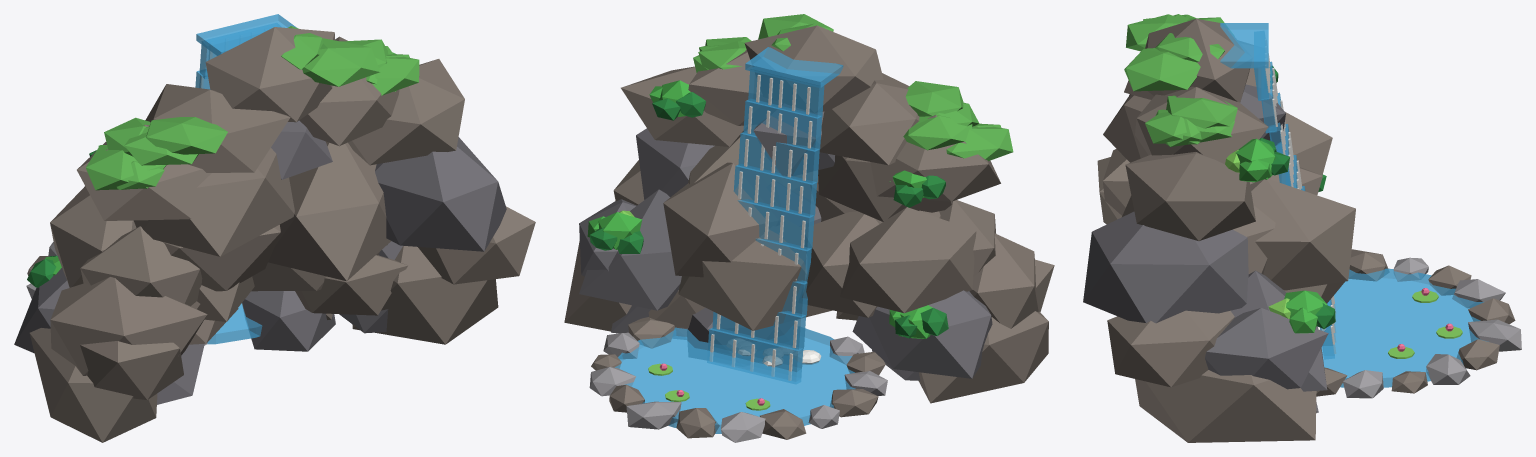
Rendered from WaterfallCliff.fbx.
3 renders of one model, left to right at view 1: azimuth 30°, elevation 25°; view 2: azimuth 150°, elevation 25°; view 3: azimuth 270°, elevation 25°, orthographic. The views are drawn at different scales.
Visible parts, largest first — view 1: WaterfallCliff_Rock, WaterfallCliff_StoneDark, WaterfallCliff_Grass, WaterfallCliff_Water, WaterfallCliff_LeafDark; view 2: WaterfallCliff_Rock, WaterfallCliff_Water, WaterfallCliff_StoneDark, WaterfallCliff_Grass, WaterfallCliff_Stone, WaterfallCliff_White, WaterfallCliff_LeafDark, WaterfallCliff_Leaf, WaterfallCliff_LeafLight; view 3: WaterfallCliff_Rock, WaterfallCliff_StoneDark, WaterfallCliff_Water, WaterfallCliff_Grass, WaterfallCliff_Stone, WaterfallCliff_Leaf, WaterfallCliff_LeafLight, WaterfallCliff_White, WaterfallCliff_LeafDark.
Part boxes in pixels (x1=…): WaterfallCliff_Rock: x1=27, y1=27, x2=535, y2=442; WaterfallCliff_StoneDark: x1=14, y1=120, x2=506, y2=404; WaterfallCliff_Grass: x1=86, y1=26, x2=419, y2=190; WaterfallCliff_Water: x1=195, y1=14, x2=296, y2=344; WaterfallCliff_LeafDark: x1=27, y1=150, x2=96, y2=287; WaterfallCliff_Rock: x1=564, y1=25, x2=1054, y2=439; WaterfallCliff_Water: x1=615, y1=47, x2=855, y2=433; WaterfallCliff_StoneDark: x1=579, y1=104, x2=992, y2=380; WaterfallCliff_Grass: x1=693, y1=14, x2=1013, y2=161; WaterfallCliff_Stone: x1=589, y1=327, x2=887, y2=442; WaterfallCliff_White: x1=710, y1=74, x2=821, y2=380; WaterfallCliff_LeafDark: x1=589, y1=92, x2=948, y2=338; WaterfallCliff_Leaf: x1=587, y1=80, x2=932, y2=338; WaterfallCliff_LeafLight: x1=619, y1=84, x2=770, y2=410; WaterfallCliff_Rock: x1=1097, y1=18, x2=1515, y2=442; WaterfallCliff_StoneDark: x1=1083, y1=84, x2=1328, y2=412; WaterfallCliff_Water: x1=1220, y1=23, x2=1488, y2=387; WaterfallCliff_Grass: x1=1124, y1=14, x2=1237, y2=146; WaterfallCliff_Stone: x1=1343, y1=257, x2=1521, y2=398; WaterfallCliff_Leaf: x1=1235, y1=138, x2=1327, y2=333; WaterfallCliff_LeafLight: x1=1225, y1=150, x2=1462, y2=358; WaterfallCliff_White: x1=1265, y1=39, x2=1335, y2=353; WaterfallCliff_LeafDark: x1=1259, y1=66, x2=1335, y2=328.
Size of the model in its own units: 42.78 by 29.99 by 36.4.
